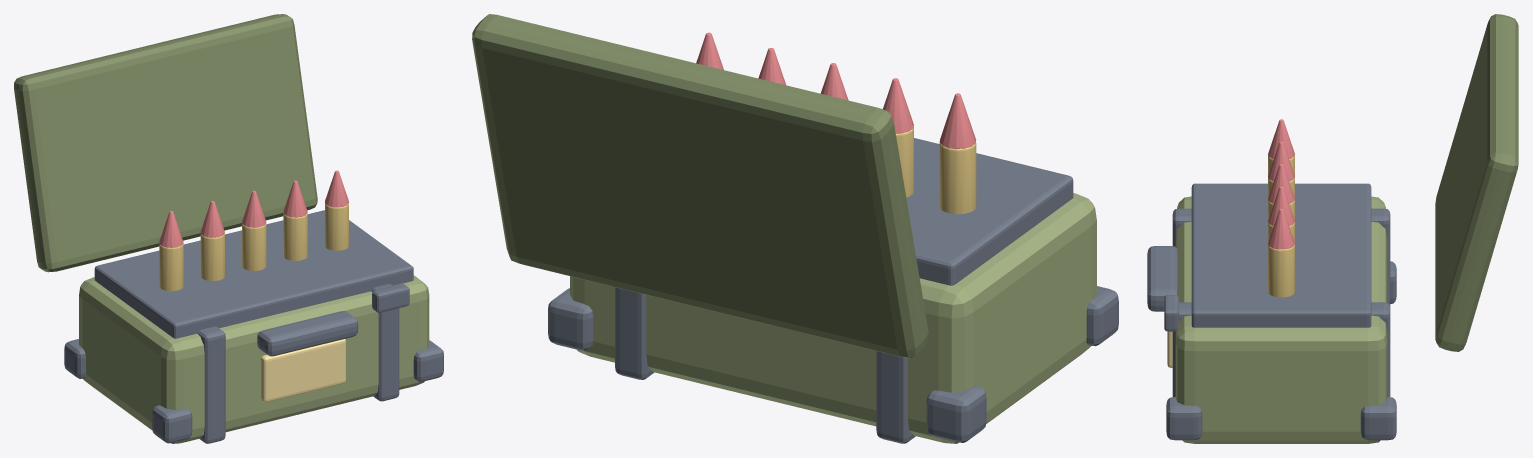
Rendered from ammo_kit.glb.
3 views of the same model, side by side, from view 1: azimuth 30°, elevation 25°; view 2: azimuth 150°, elevation 25°; view 3: azimuth 270°, elevation 25° (orthographic). The views are drawn at different scales.
Parts seen in each view (by area): view 1: WPN_Ammo_Lid.001, WPN_Ammo_Body.001, WPN_Ammo_Foam.001, WPN_Ammo_Label.001, WPN_Ammo_Handle.001, WPN_Ammo_Strap-1.001, WPN_Ammo_Strap1.001, WPN_Ammo_Corner-1-1.001, WPN_Ammo_Round0.001, WPN_Ammo_Round2.001, WPN_Ammo_Round3.001, WPN_Ammo_Round1.001 (+9 smaller); view 2: WPN_Ammo_Lid.001, WPN_Ammo_Body.001, WPN_Ammo_Foam.001, WPN_Ammo_Corner-11.001, WPN_Ammo_Strap-1.001, WPN_Ammo_Strap1.001, WPN_Ammo_Round0.001, WPN_Ammo_Corner11.001, WPN_Ammo_Corner-1-1.001, WPN_Ammo_Tip0.001, WPN_Ammo_Tip1.001, WPN_Ammo_Round1.001; view 3: WPN_Ammo_Body.001, WPN_Ammo_Foam.001, WPN_Ammo_Lid.001, WPN_Ammo_Handle.001, WPN_Ammo_Corner1-1.001, WPN_Ammo_Corner11.001, WPN_Ammo_Round4.001, WPN_Ammo_Strap1.001, WPN_Ammo_Strap-1.001, WPN_Ammo_Tip4.001, WPN_Ammo_Latch.001, WPN_Ammo_Tip2.001 (+3 smaller).
Part boxes in pixels (left/top/right/bottom): WPN_Ammo_Lid.001: left=14, top=14, right=317, bottom=272; WPN_Ammo_Body.001: left=79, top=275, right=429, bottom=443; WPN_Ammo_Foam.001: left=94, top=210, right=413, bottom=338; WPN_Ammo_Label.001: left=261, top=339, right=345, bottom=402; WPN_Ammo_Handle.001: left=257, top=311, right=358, bottom=356; WPN_Ammo_Strap-1.001: left=197, top=326, right=225, bottom=443; WPN_Ammo_Strap1.001: left=371, top=284, right=399, bottom=401; WPN_Ammo_Corner-1-1.001: left=152, top=405, right=192, bottom=443; WPN_Ammo_Round0.001: left=159, top=243, right=183, bottom=291; WPN_Ammo_Round2.001: left=242, top=223, right=266, bottom=270; WPN_Ammo_Round3.001: left=283, top=213, right=307, bottom=260; WPN_Ammo_Round1.001: left=200, top=233, right=224, bottom=280; WPN_Ammo_Lid.001: left=472, top=14, right=928, bottom=358; WPN_Ammo_Body.001: left=570, top=193, right=1096, bottom=443; WPN_Ammo_Foam.001: left=906, top=138, right=1073, bottom=285; WPN_Ammo_Corner-11.001: left=926, top=385, right=986, bottom=442; WPN_Ammo_Strap-1.001: left=876, top=351, right=915, bottom=443; WPN_Ammo_Strap1.001: left=615, top=287, right=654, bottom=379; WPN_Ammo_Round0.001: left=939, top=142, right=976, bottom=214; WPN_Ammo_Corner11.001: left=548, top=288, right=593, bottom=350; WPN_Ammo_Corner-1-1.001: left=1086, top=286, right=1118, bottom=346; WPN_Ammo_Tip0.001: left=939, top=93, right=975, bottom=148; WPN_Ammo_Tip1.001: left=883, top=78, right=913, bottom=133; WPN_Ammo_Round1.001: left=896, top=127, right=913, bottom=197; WPN_Ammo_Body.001: left=1175, top=196, right=1387, bottom=443; WPN_Ammo_Foam.001: left=1191, top=183, right=1371, bottom=327; WPN_Ammo_Lid.001: left=1435, top=14, right=1518, bottom=351; WPN_Ammo_Handle.001: left=1147, top=246, right=1177, bottom=311; WPN_Ammo_Corner1-1.001: left=1166, top=397, right=1202, bottom=440; WPN_Ammo_Corner11.001: left=1360, top=397, right=1396, bottom=440; WPN_Ammo_Round4.001: left=1268, top=244, right=1294, bottom=297; WPN_Ammo_Strap1.001: left=1172, top=302, right=1390, bottom=396; WPN_Ammo_Strap-1.001: left=1172, top=208, right=1390, bottom=307; WPN_Ammo_Tip4.001: left=1268, top=208, right=1294, bottom=249; WPN_Ammo_Latch.001: left=1164, top=295, right=1178, bottom=331; WPN_Ammo_Tip2.001: left=1268, top=164, right=1294, bottom=203.
Size of the model in its own units: 0.338 by 0.309 by 0.3514.
